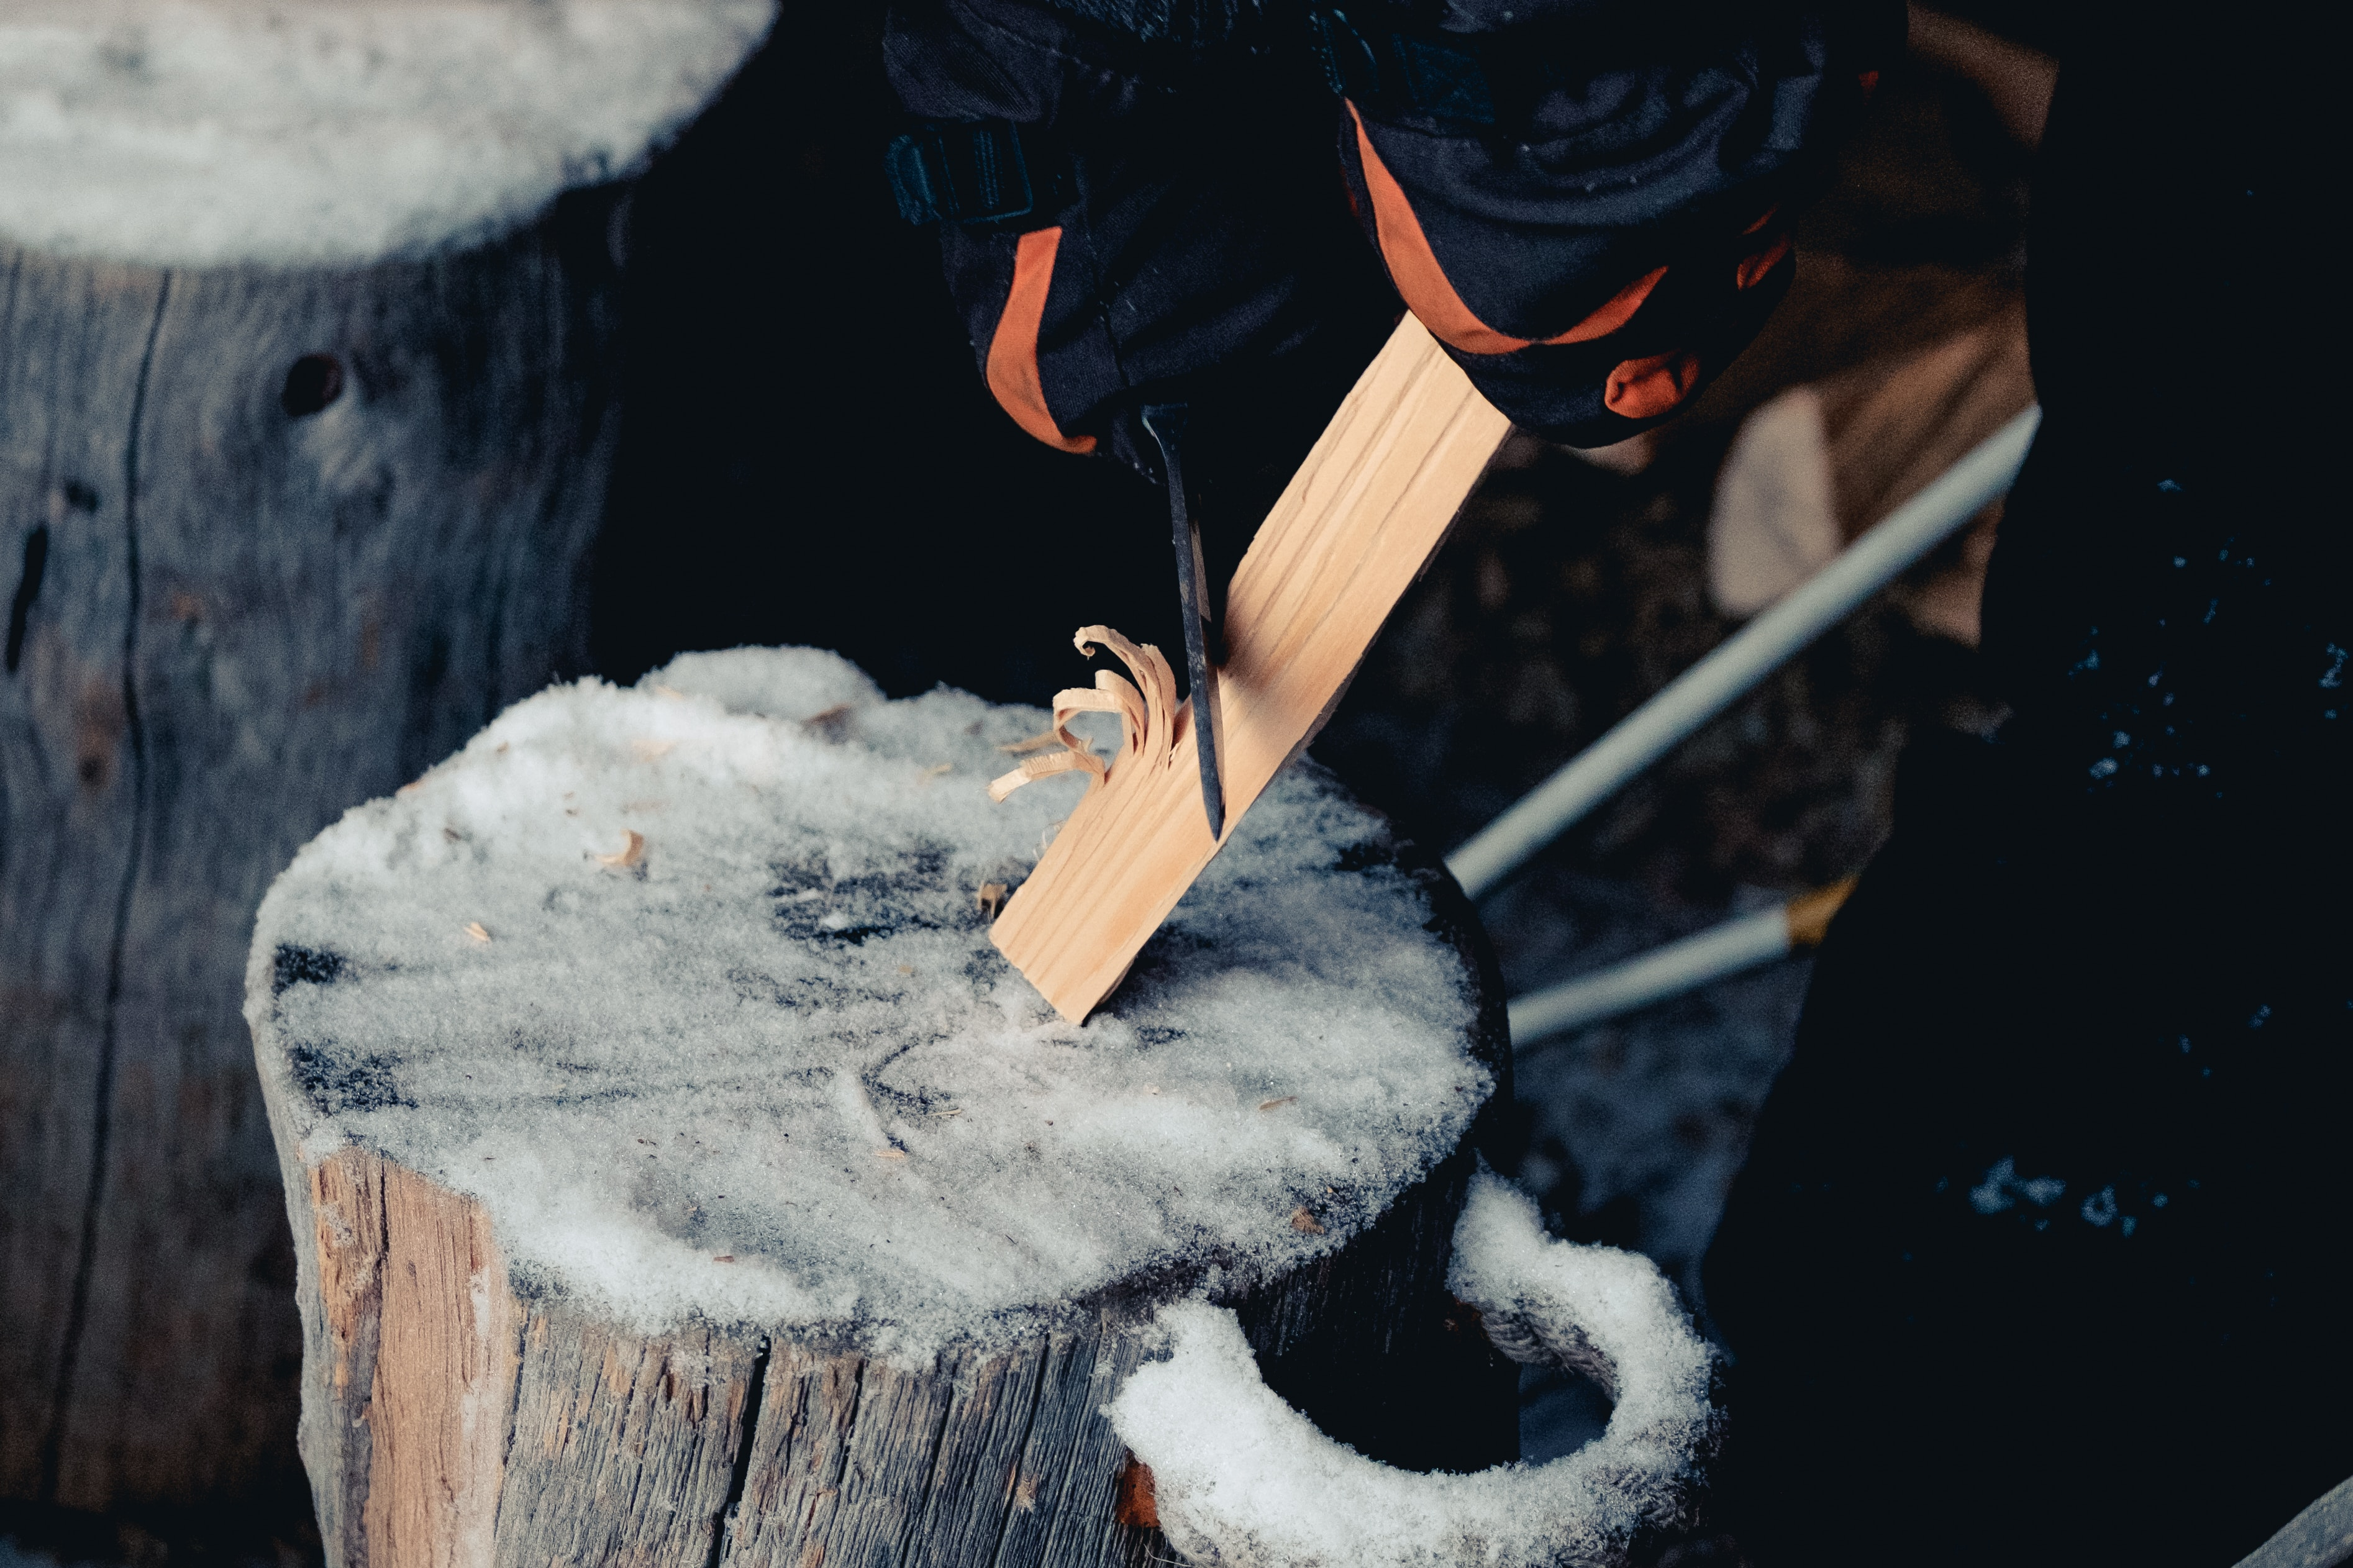knife: (1098, 371, 1290, 866)
